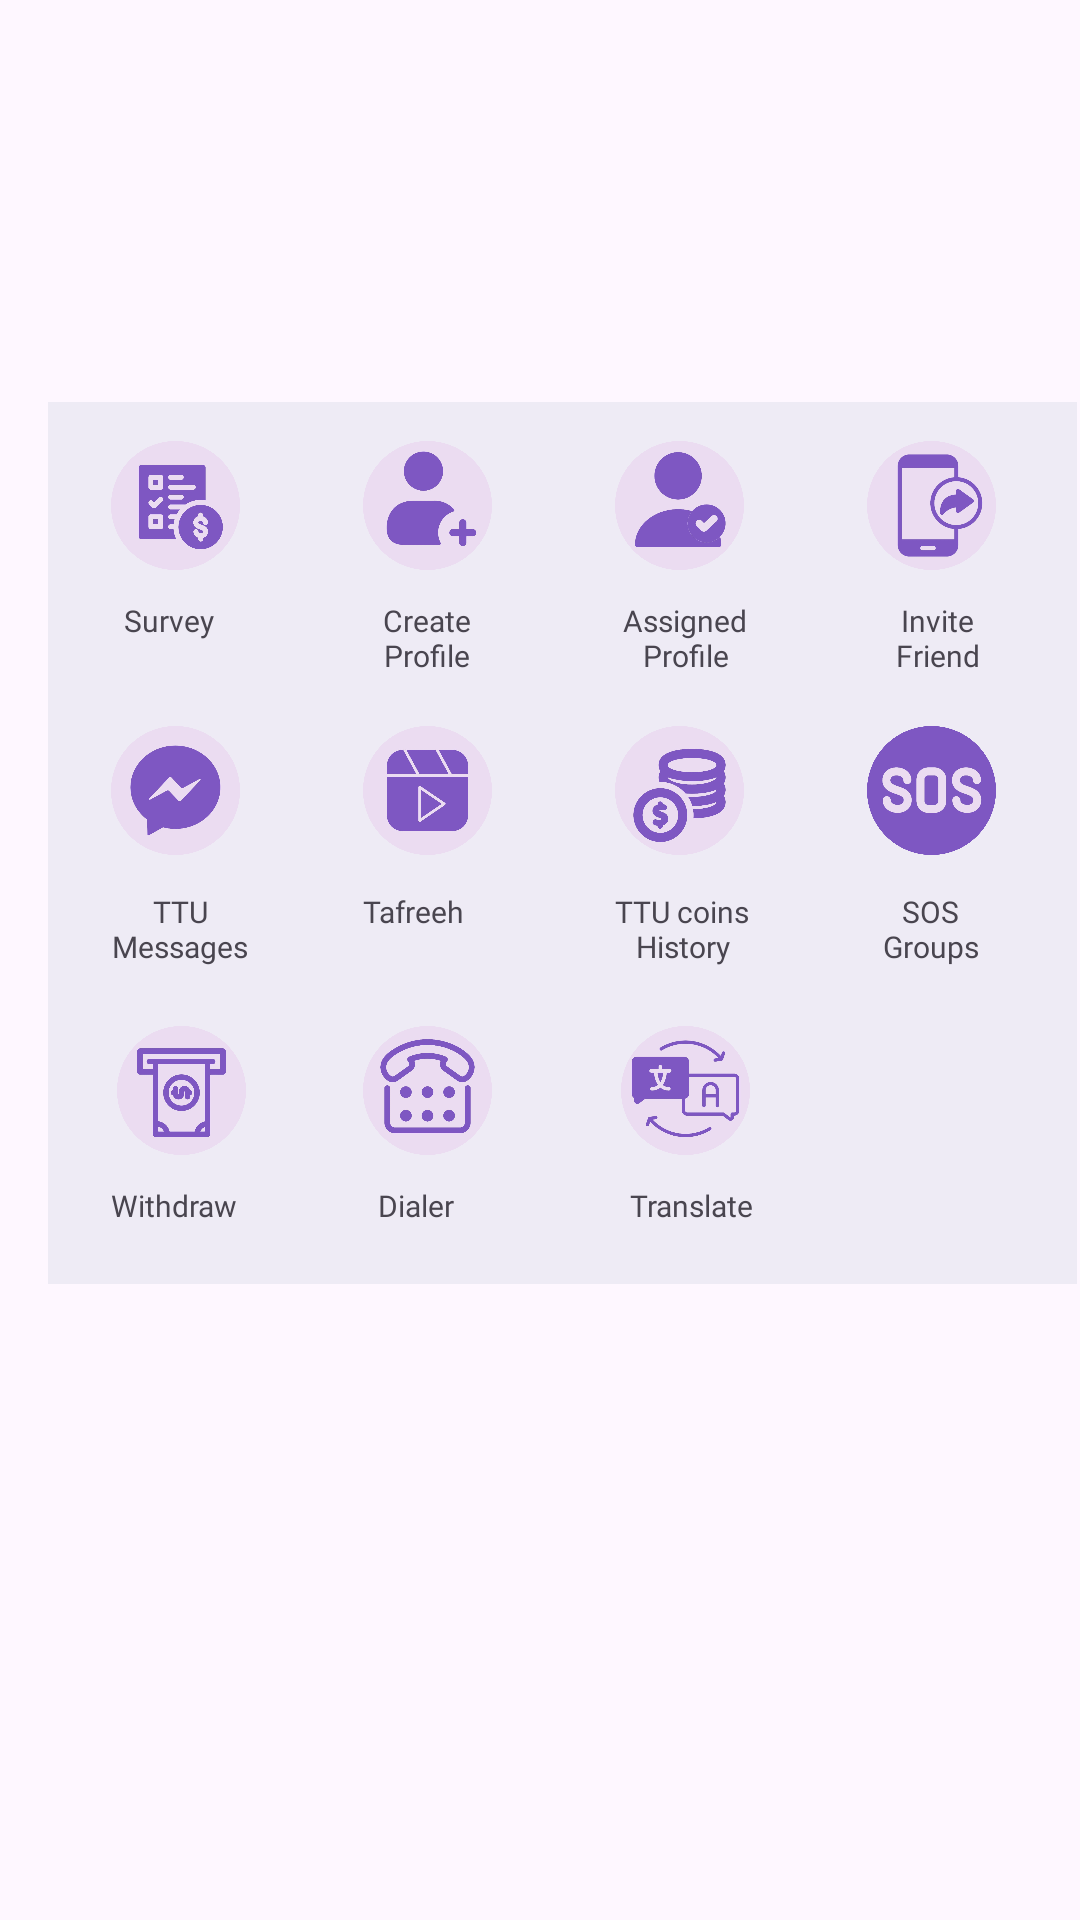

Point at icon controls on the screen. Image size 1080w x 1920h, points as [x,y].
Add User Icon: [427,505]
Assign User Icon: [680,499]
Coin Icon: [679,790]
